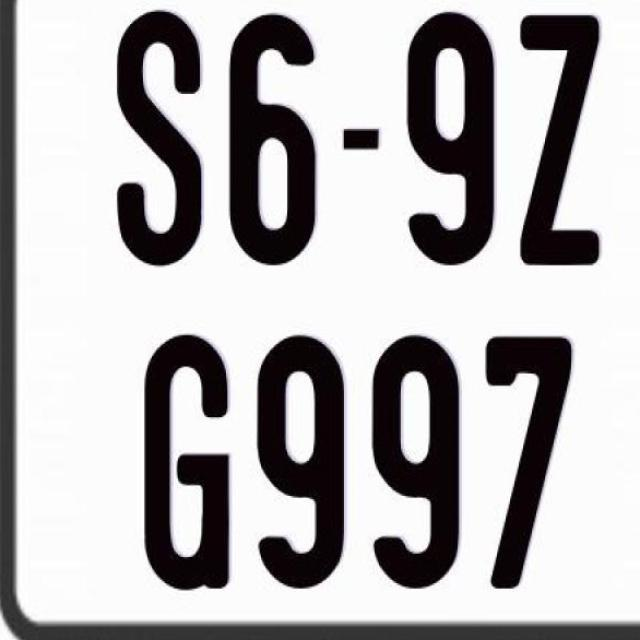license-plate: (16, 4, 640, 640)
